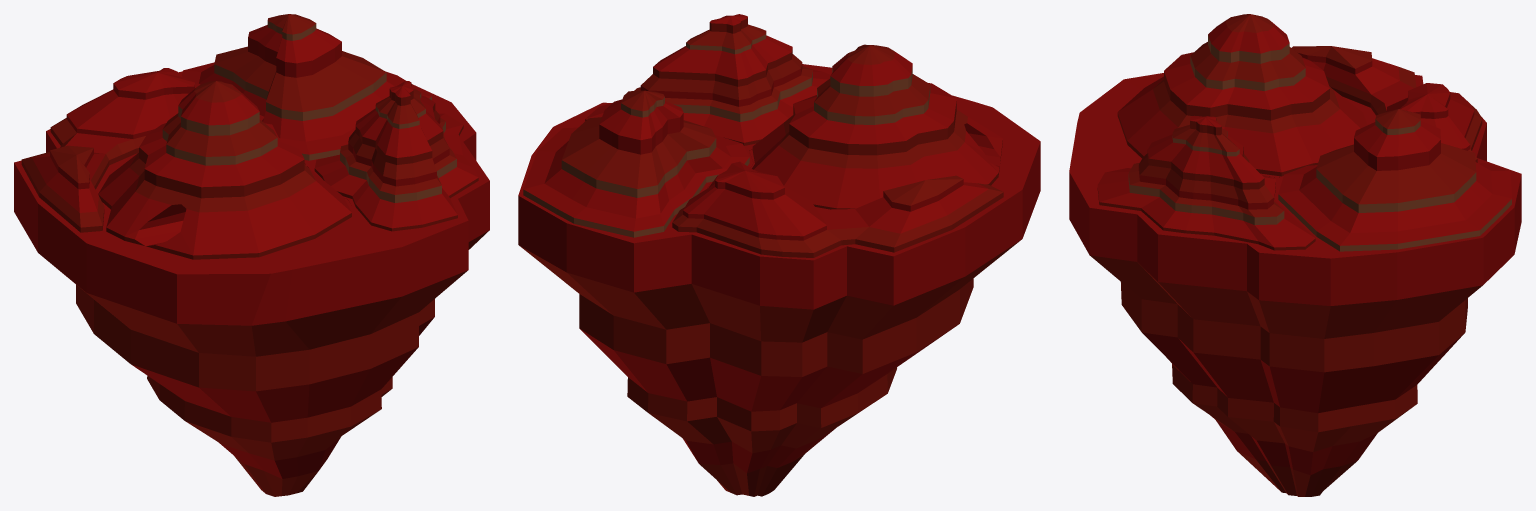
Rendered from GRANDCanyonIsland 2.fbx.
3 views of the same model, side by side, from view 1: azimuth 30°, elevation 25°; view 2: azimuth 150°, elevation 25°; view 3: azimuth 270°, elevation 25° (orthographic). The views are drawn at different scales.
Parts seen in each view (by area): view 1: wkankerieland; view 2: wkankerieland; view 3: wkankerieland.
Part boxes in pixels (left/top/right/bottom): wkankerieland: left=14, top=14, right=489, bottom=496; wkankerieland: left=518, top=14, right=1040, bottom=496; wkankerieland: left=1069, top=14, right=1521, bottom=496.
Bounding box in the file's own units: 106736 × 109184 × 104069.
